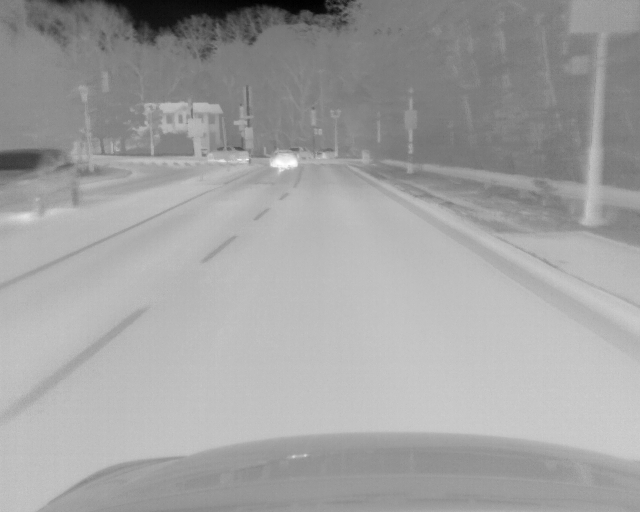car: (1, 148, 80, 223), (206, 145, 249, 164), (267, 147, 298, 169), (290, 146, 315, 160), (316, 147, 335, 160)
